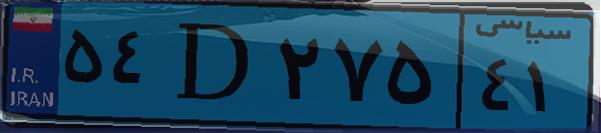1: (525, 38, 570, 115)
2: (270, 28, 330, 110)
4: (475, 38, 525, 113), (110, 28, 158, 98)
5: (385, 28, 445, 110), (57, 26, 110, 100)
7: (330, 28, 385, 110)
D: (158, 12, 270, 120)
